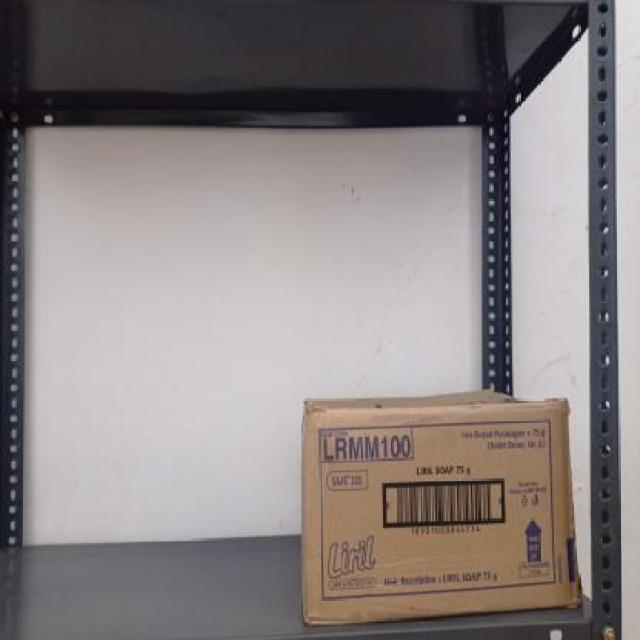box: (298, 407, 584, 613)
